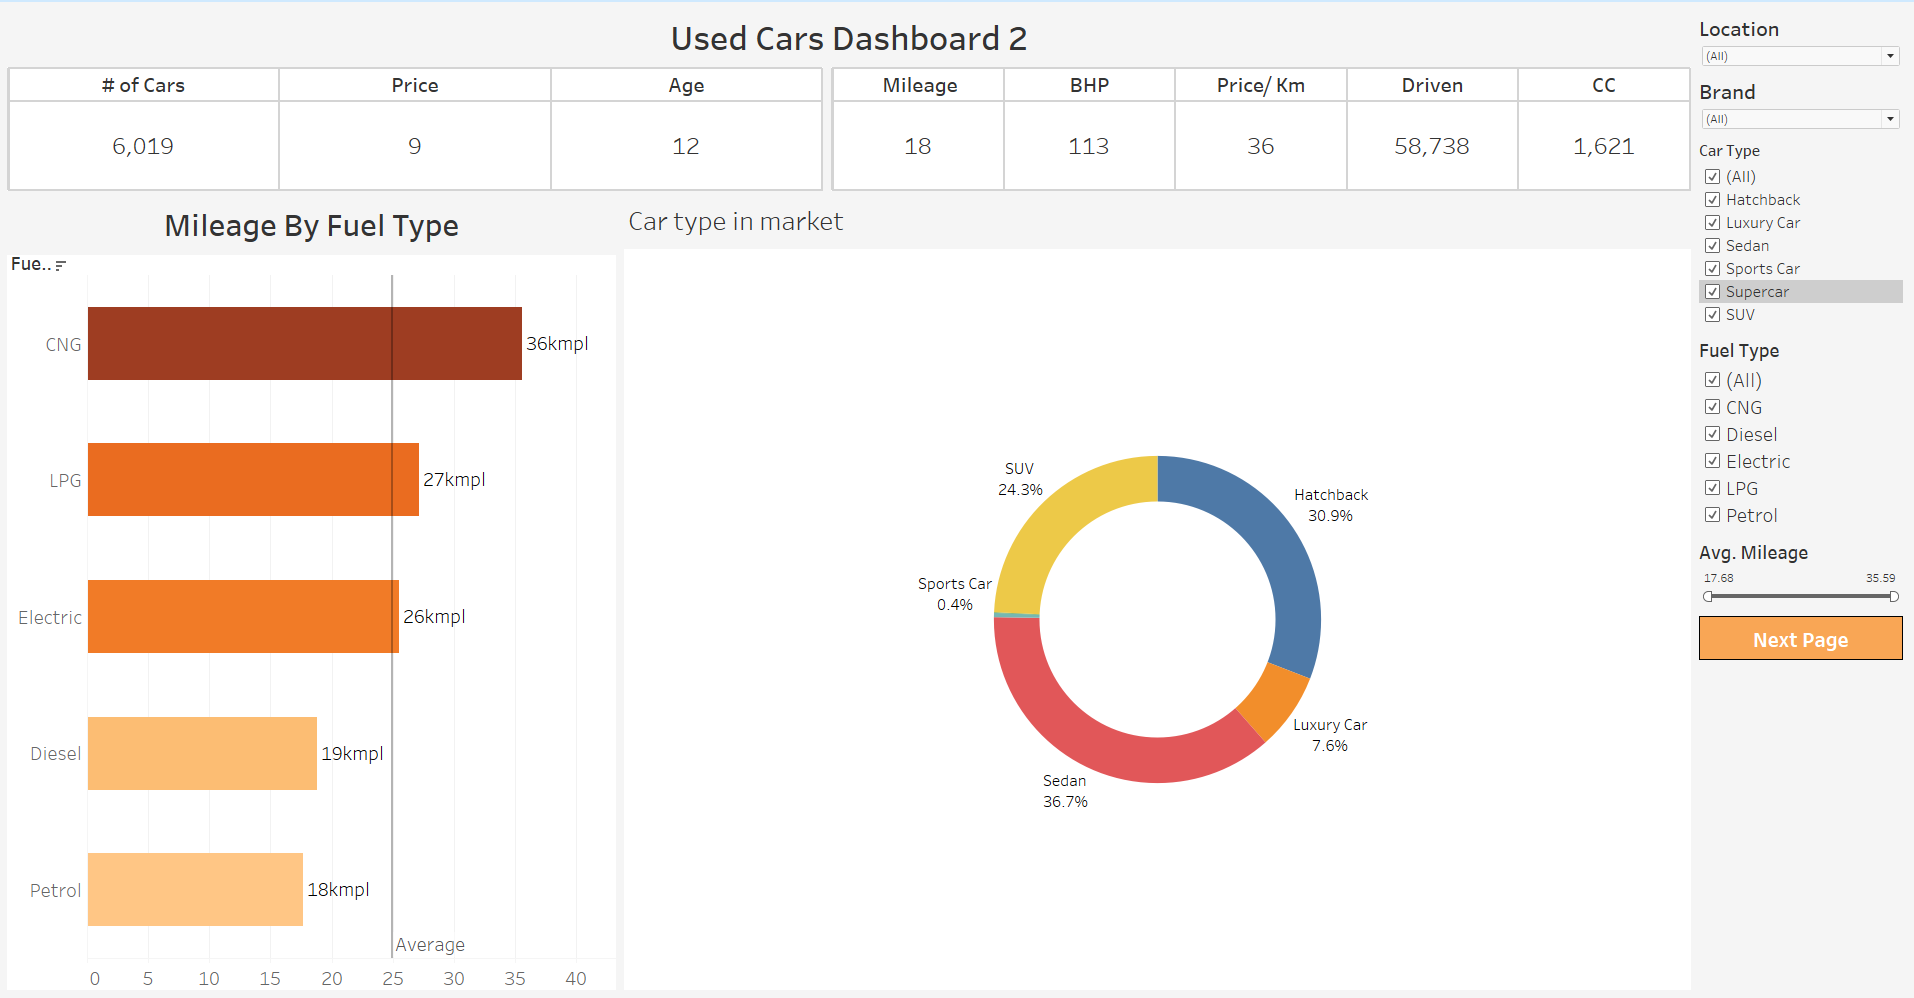

The page's visual inventory and layout, read from the dashboard file:
{"tool":"tableau","page":{"name":"Used Cars Dashboard 2","canvas":[1000,1000],"units":"permille","ordinal":1},"visuals":[{"type":"title","box":[4.8,9.3,880.3,61.6]},{"type":"filter","title":"Facts","param":"[federated.1cgvcd90rgtdlv14cw8tb1lmjpyf].[none:Location:nk]","box":[885.1,9.3,110.1,79]},{"type":"worksheet","title":"Facts","mark":"Automatic","box":[4.8,70.8,356.4,123.1]},{"type":"worksheet","title":"Facts (2)","mark":"Automatic","box":[361.3,70.8,523.8,123.1]},{"type":"filter","title":"Facts","param":"[federated.1cgvcd90rgtdlv14cw8tb1lmjpyf].[none:Brand:nk]","box":[885.1,88.3,110.1,79]},{"type":"filter","title":"Car type in market","param":"[federated.1cgvcd90rgtdlv14cw8tb1lmjpyf].[none:Car_Type:nk]","box":[885.1,167.2,110.1,228.8]},{"type":"worksheet","title":"Mileage By Fuel Type","mark":"Automatic","rows":["Calculation_1525875883309469696"],"cols":["Fuel_Type"],"box":[4.8,193.9,372.4,796.8]},{"type":"worksheet","title":"Car type in market","mark":"Pie","rows":["Calculation_880735237177962498","Calculation_880735237177987076"],"box":[377.2,193.9,507.9,796.8]},{"type":"filter","title":"Mileage By Fuel Type","param":"[federated.1cgvcd90rgtdlv14cw8tb1lmjpyf].[none:Fuel_Type:nk]","box":[885.1,396.1,110.1,234.6]},{"type":"filter","title":"Mileage By Fuel Type","param":"[federated.1cgvcd90rgtdlv14cw8tb1lmjpyf].[avg:Calculation_1525875883309469696:qk","box":[885.1,630.7,110.1,89.4]},{"type":"dashboard-object","box":[885.1,720.1,110.1,60.4]}]}

Visuals, with their boxes on the dashboard's canvas, which has no fixed pixel size, in thousandths of its width and height (x1, y1, x2, y2). These are canvas units, not pixel positions in the 1914x998 screenshot, which may show the page scaled, cropped or inside an application window:
title: rect(5, 9, 885, 71)
"Facts" filter: rect(885, 9, 995, 88)
"Facts" worksheet: rect(5, 71, 361, 194)
"Facts (2)" worksheet: rect(361, 71, 885, 194)
"Facts" filter: rect(885, 88, 995, 167)
"Car type in market" filter: rect(885, 167, 995, 396)
"Mileage By Fuel Type" worksheet: rect(5, 194, 377, 991)
"Car type in market" worksheet (Pie marks): rect(377, 194, 885, 991)
"Mileage By Fuel Type" filter: rect(885, 396, 995, 631)
"Mileage By Fuel Type" filter: rect(885, 631, 995, 720)
dashboard-object: rect(885, 720, 995, 780)
